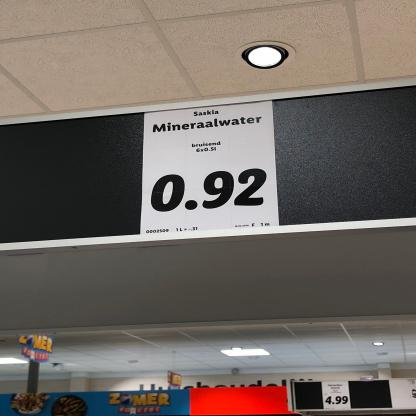prtg: (141, 101, 280, 235)
